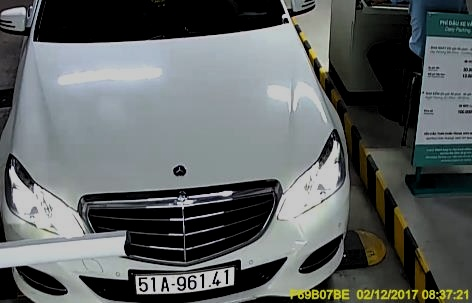plate: (133, 268, 239, 295)
